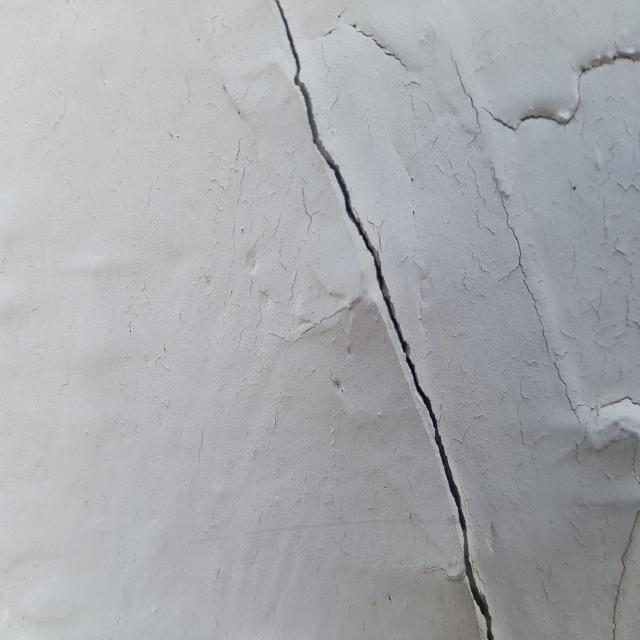SurfaceCrack: (250, 0, 515, 640)
